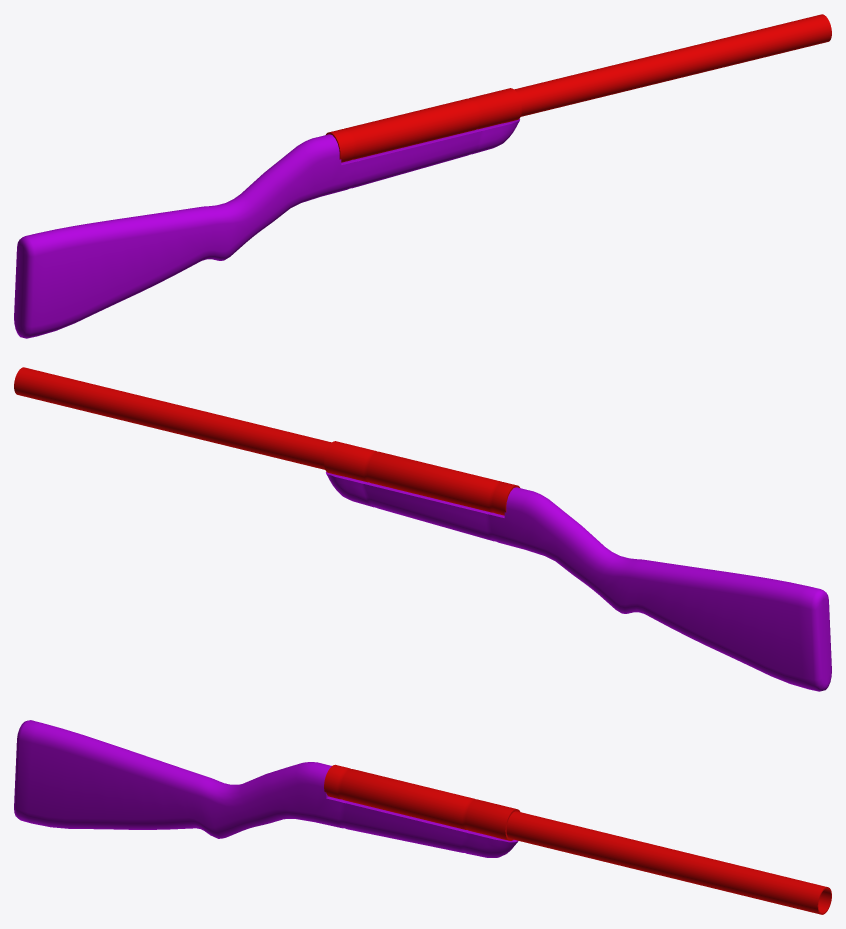
The model's file is geo_rifle.fbx.
3 renders of one model, top to bottom at view 1: azimuth 30°, elevation 25°; view 2: azimuth 150°, elevation 25°; view 3: azimuth 330°, elevation 25°, orthographic.
Visible parts, largest first — view 1: geo_rifle; view 2: geo_rifle; view 3: geo_rifle.
Boxes of the visible parts, <box> form: geo_rifle: <box>14,14,831,338</box>; geo_rifle: <box>14,367,831,691</box>; geo_rifle: <box>14,720,831,914</box>.
Size of the model in its own units: 325 by 49.86 by 11.46.
